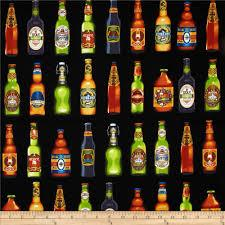Glass bottle: (1, 1, 224, 211)
